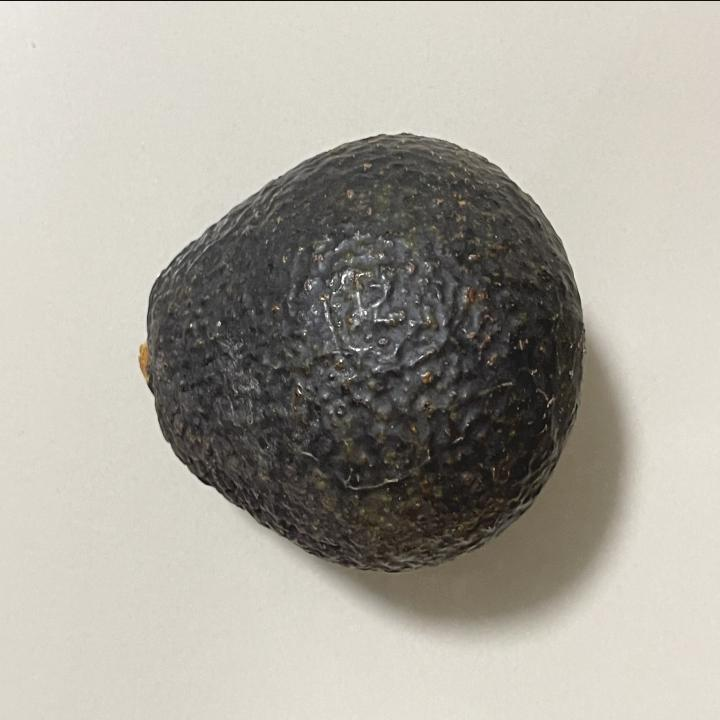Level2: (130, 120, 592, 582)
